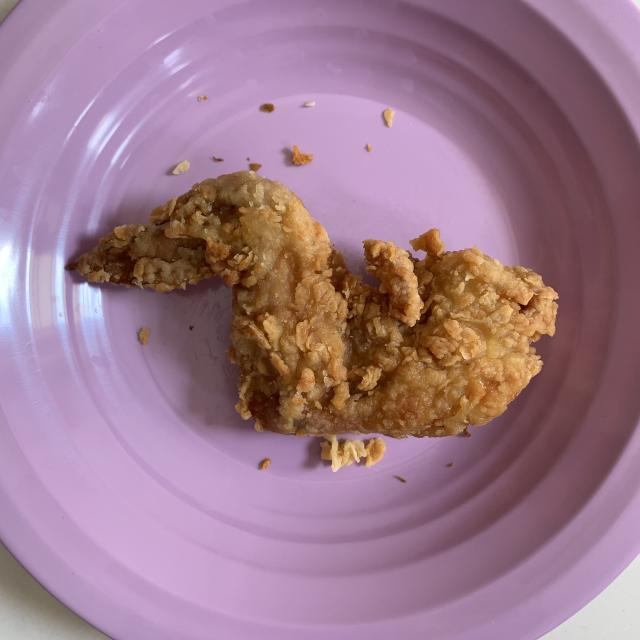Frango: (77, 170, 559, 441)
